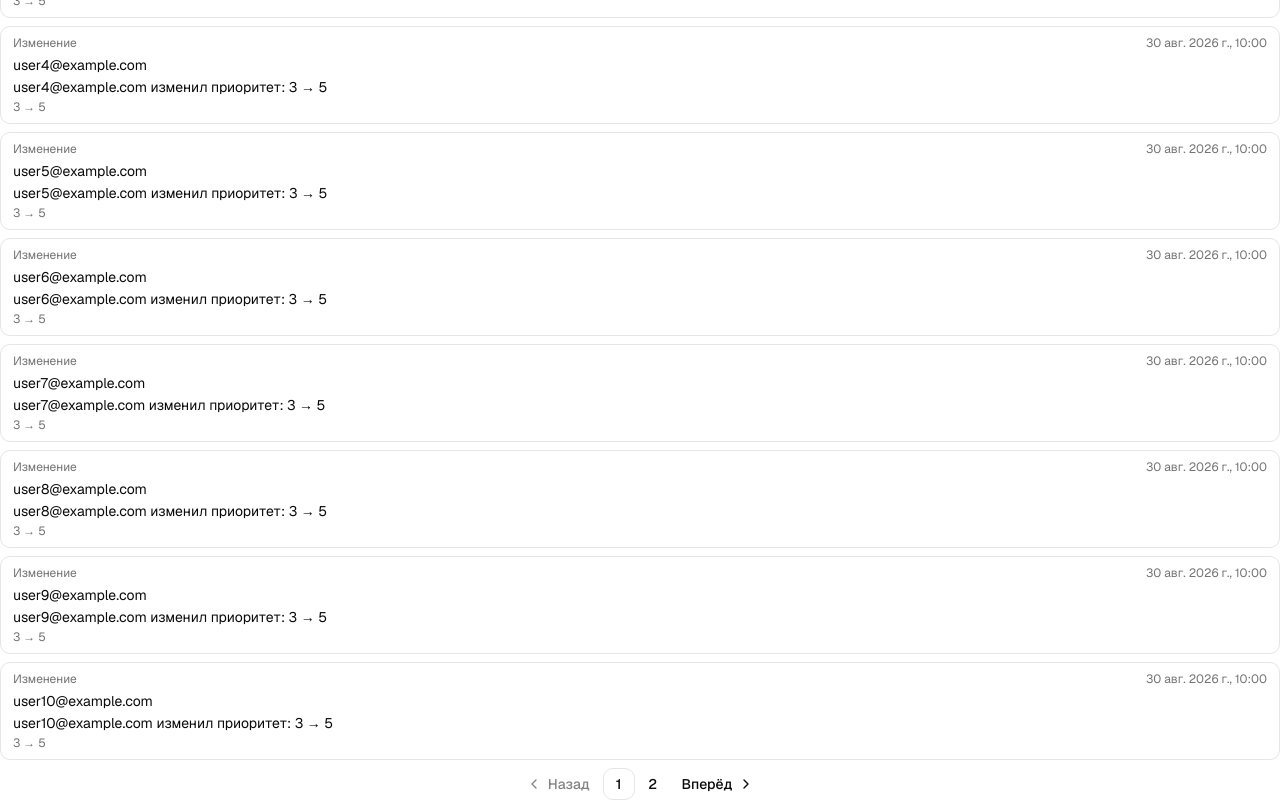
Scenario: TaskActivity › paginates when there are more activity items than one page
The width and height of the screenshot is (1280, 800).
(page scrolled)
expect the text "user11@example.com" is not shown: met
Step 1. Click the button with aria-label "Следующая страница" → [716, 784], box [671,768,761,799]
(page scrolled)
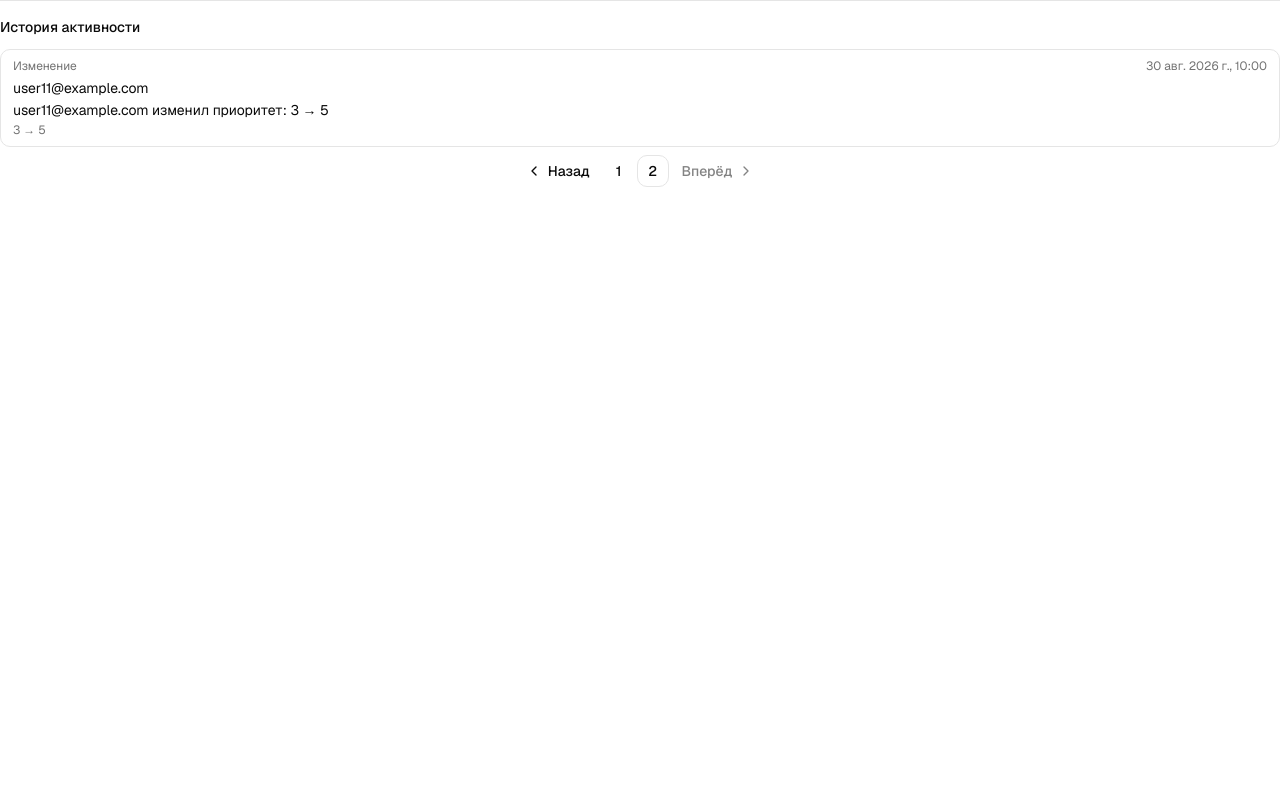
expect the text "user11@example.com" is shown: met, box [13,79,149,97]
expect the number of list items with test id "task-activity-item" is 1: met, box [0,49,1279,147]
